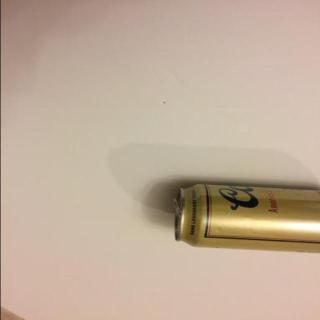Anorganik: (167, 176, 320, 256)
